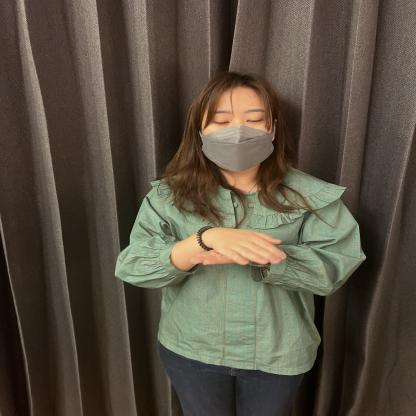Love: (50, 161, 350, 333)
